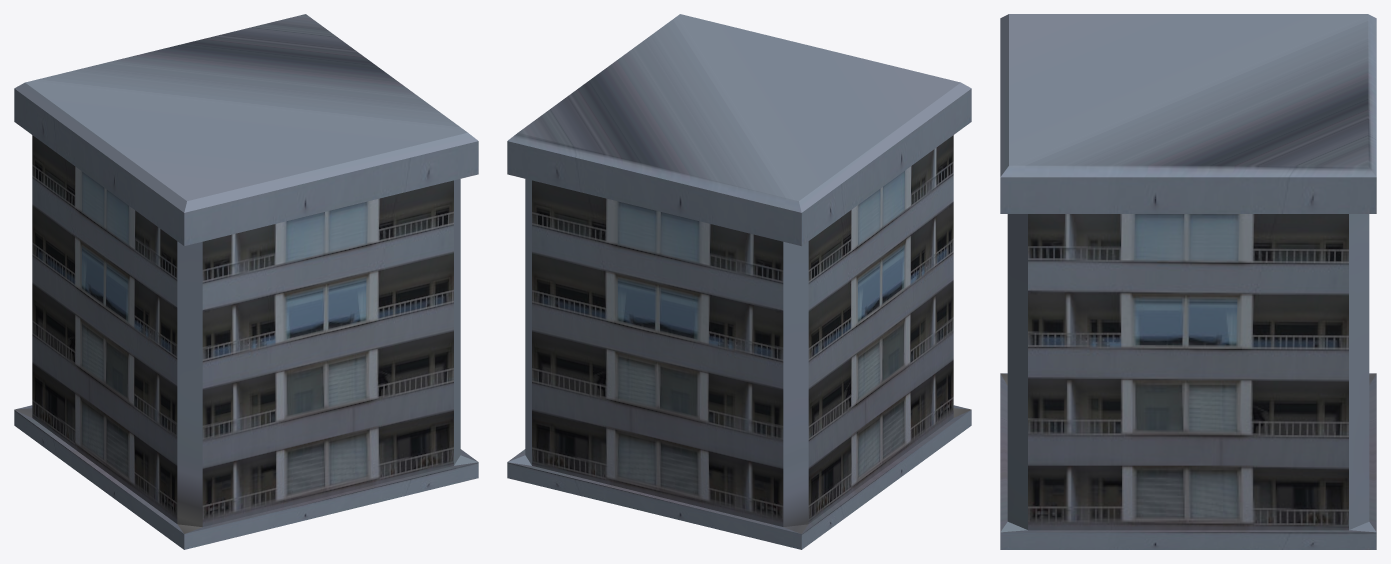
Rendered from building5.glb.
The picture shows the model from 3 angles, left to right: view 1: azimuth 30°, elevation 25°; view 2: azimuth 150°, elevation 25°; view 3: azimuth 270°, elevation 25°; orthographic projection. The views are drawn at different scales.
Visible parts, largest first — view 1: building5; view 2: building5; view 3: building5.
Part boxes in pixels (box(x1,y1,x2,y2)): building5: box(14, 14, 478, 549); building5: box(507, 14, 971, 549); building5: box(1000, 14, 1376, 549).
Bounding box in the file's own units: 14.79 × 16.52 × 14.79.
1 material, 1 textured.
